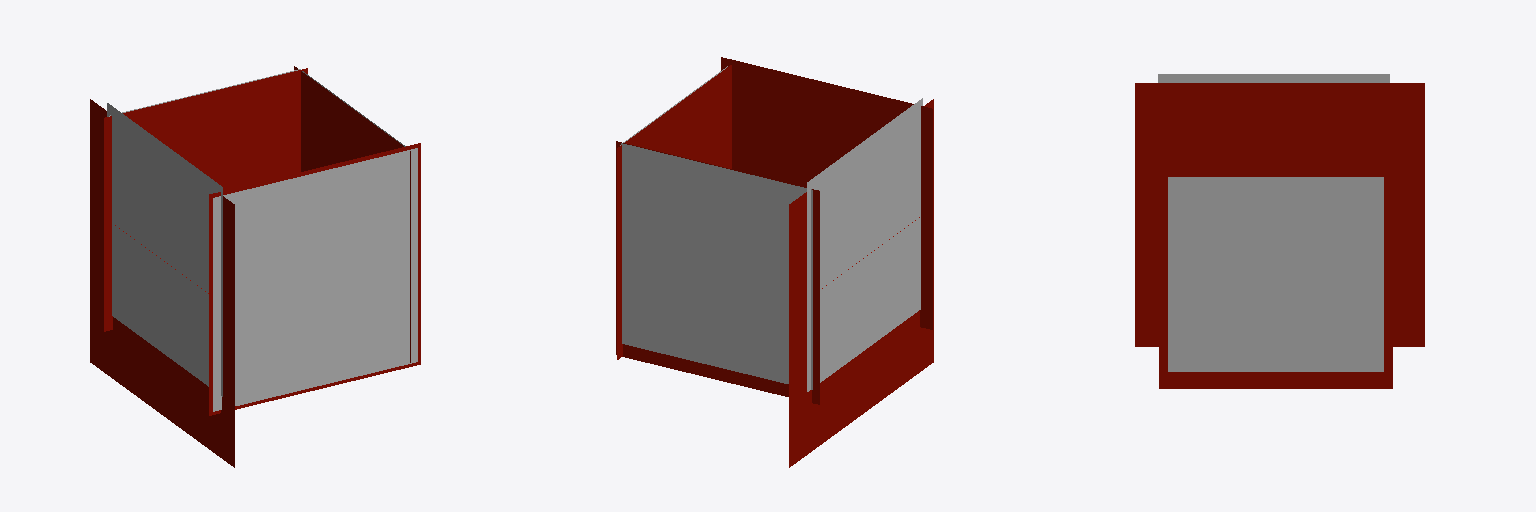
Rendered from testowa_scena.obj.
The picture shows the model from 3 angles: view 1: azimuth 30°, elevation 25°; view 2: azimuth 150°, elevation 25°; view 3: azimuth 270°, elevation 25°; orthographic projection.
Visible parts, largest first — view 1: Plane.004, Plane.002, Plane.007, Plane.003, Plane.009, Plane.005; view 2: Plane.006, Plane.002, Plane.005, Plane.003, Plane.009, Plane.007; view 3: Plane.008, Plane.003, Plane.009, Plane.002.
Boxes of the visible parts, x1,y1,x2,y2 form: Plane.004: [213, 148, 417, 411]; Plane.002: [107, 103, 222, 396]; Plane.007: [104, 68, 307, 331]; Plane.003: [90, 99, 234, 467]; Plane.009: [294, 66, 410, 362]; Plane.005: [209, 143, 420, 415]; Plane.006: [621, 143, 812, 389]; Plane.002: [807, 98, 922, 391]; Plane.005: [721, 57, 932, 329]; Plane.003: [789, 99, 933, 467]; Plane.009: [617, 65, 731, 359]; Plane.007: [616, 141, 819, 404]; Plane.008: [1168, 177, 1383, 371]; Plane.003: [1135, 83, 1424, 346]; Plane.009: [1159, 177, 1392, 388]; Plane.002: [1158, 74, 1389, 82].
Size of the model in its own units: 16.24 by 19.99 by 19.31.